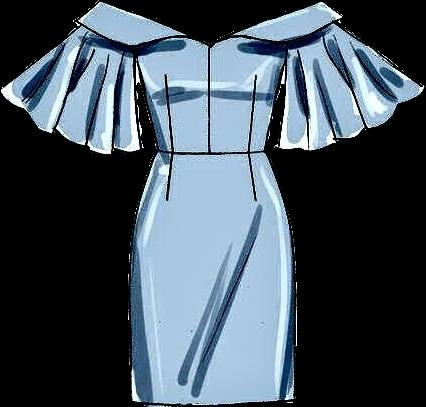Bodice: (136, 35, 287, 155)
Hemline: (130, 393, 294, 406)
Neckline: (132, 33, 282, 55)
Skirt: (130, 150, 294, 404)
Sleeve: (229, 2, 423, 150), (1, 1, 186, 153)
Sleeveline: (73, 22, 138, 51), (283, 17, 341, 47), (133, 31, 192, 57), (219, 37, 285, 50)
Waistline: (0, 87, 143, 156), (277, 84, 424, 150), (156, 148, 265, 156)
